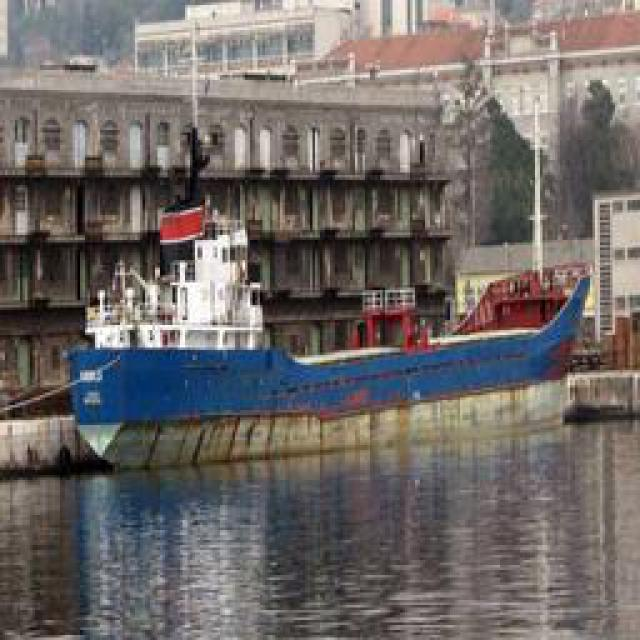Ship: (68, 256, 593, 459)
